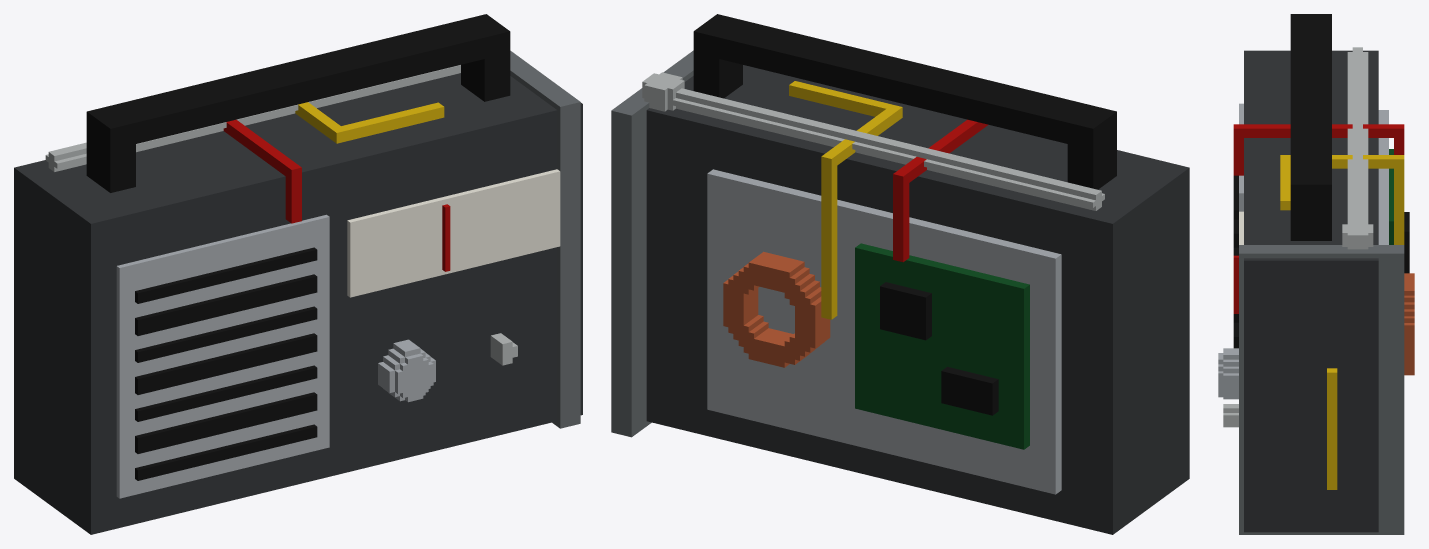
Rendered from balthazar_radio.glb.
The picture shows the model from 3 angles, left to right: view 1: azimuth 30°, elevation 25°; view 2: azimuth 150°, elevation 25°; view 3: azimuth 270°, elevation 25°; orthographic projection. The views are drawn at different scales.
Parts seen in each view (by area): view 1: balthazar_radio:compound; view 2: balthazar_radio:compound; view 3: balthazar_radio:compound.
Part boxes in pixels (x1,y1,x2,y2): balthazar_radio:compound: (14,14,582,534); balthazar_radio:compound: (611,14,1189,534); balthazar_radio:compound: (1218,14,1414,534).
Bounding box in the file's own units: 0.196 × 0.142 × 0.076.
